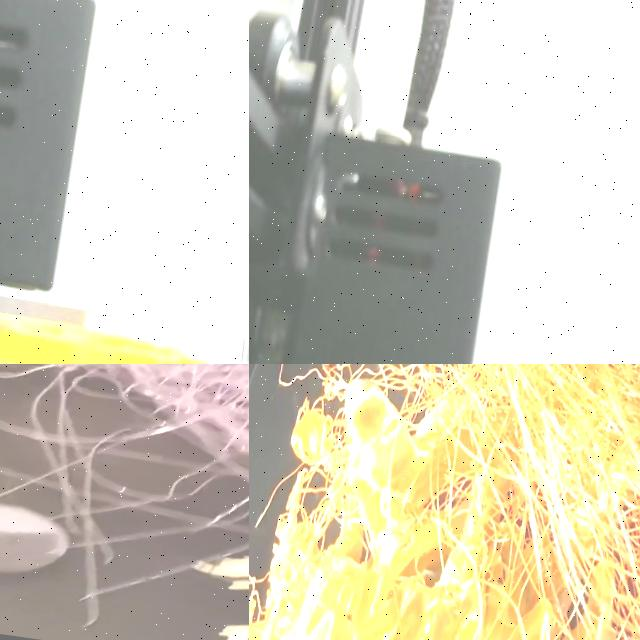spaghetti: (249, 364, 640, 640), (0, 364, 249, 619)
